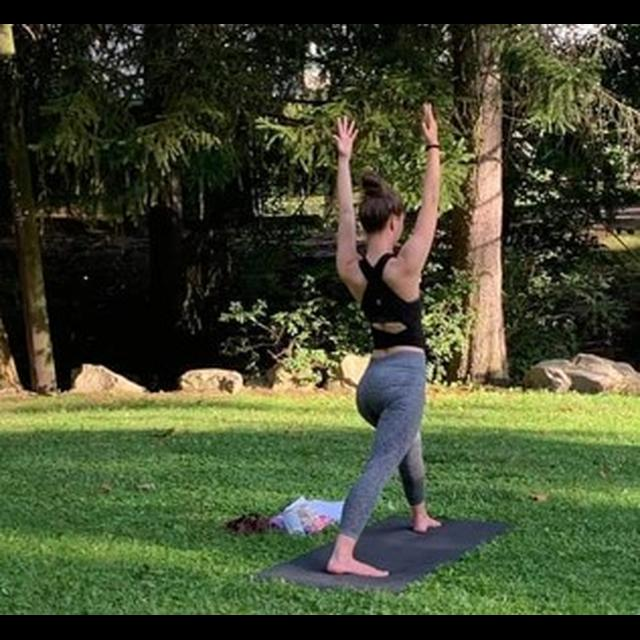Warrior_I: (288, 96, 478, 582)
